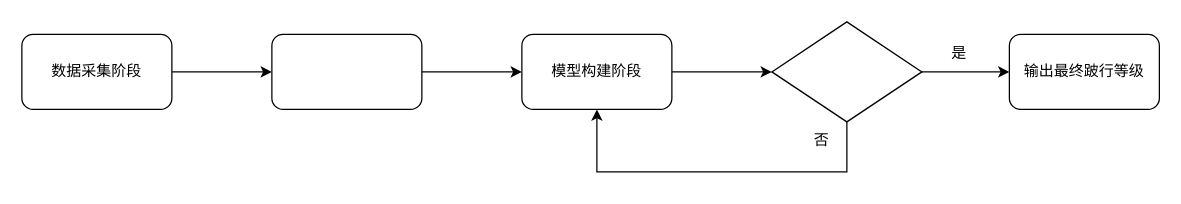
This 1181x204 diagram has some shape labels left out. The centre of each missing label's shape, as x and y in pixels:
"数据处理阶段" belongs at point (346, 71).
"是否满足预期值" belongs at point (846, 71).
